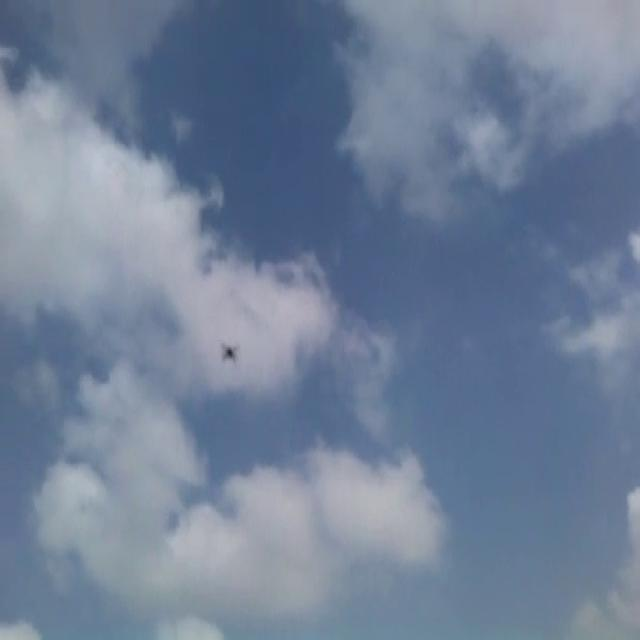drone: (218, 336, 243, 363)
